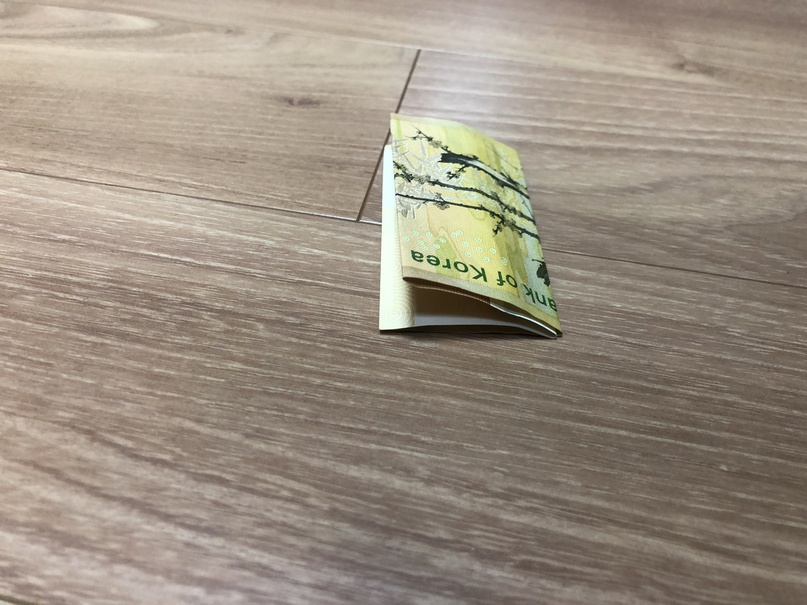50000won: (379, 112, 564, 340)
